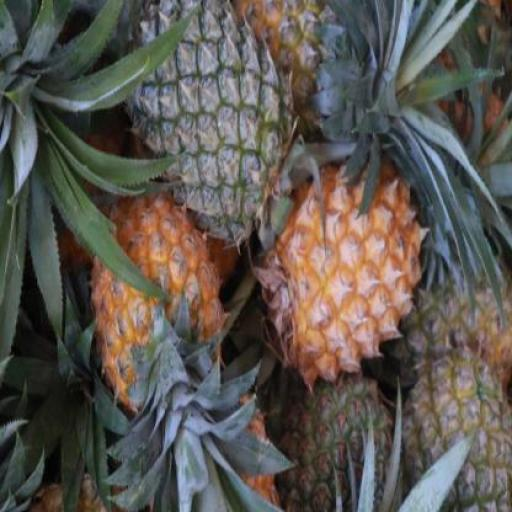Pineapple - v8 v1: (266, 160, 432, 390), (85, 190, 224, 408)
